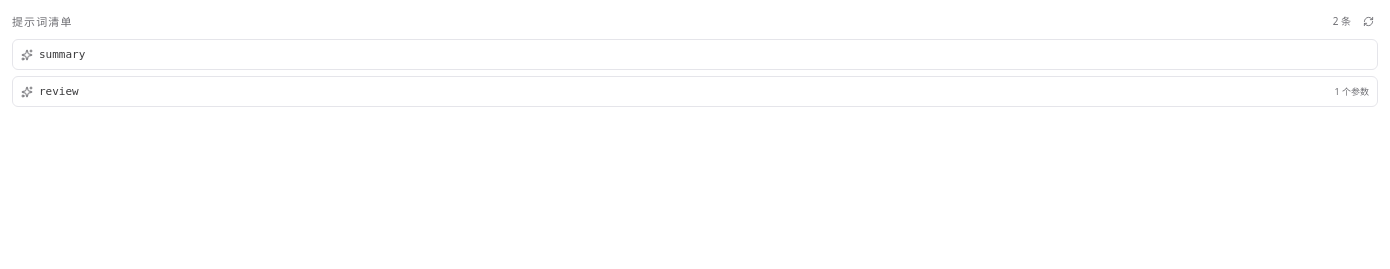
it: McpPromptPanel › 无参数提示词点击后直接展开预览
The image size is (1390, 269).
Click the button "summary" at (62, 54), box [12,39,1378,70]
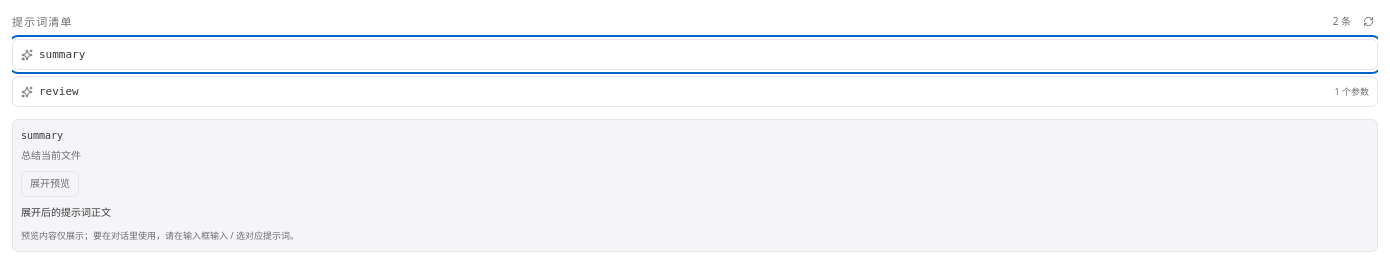
Expected: the text "展开后的提示词正文" is shown, [21,207,111,218]
